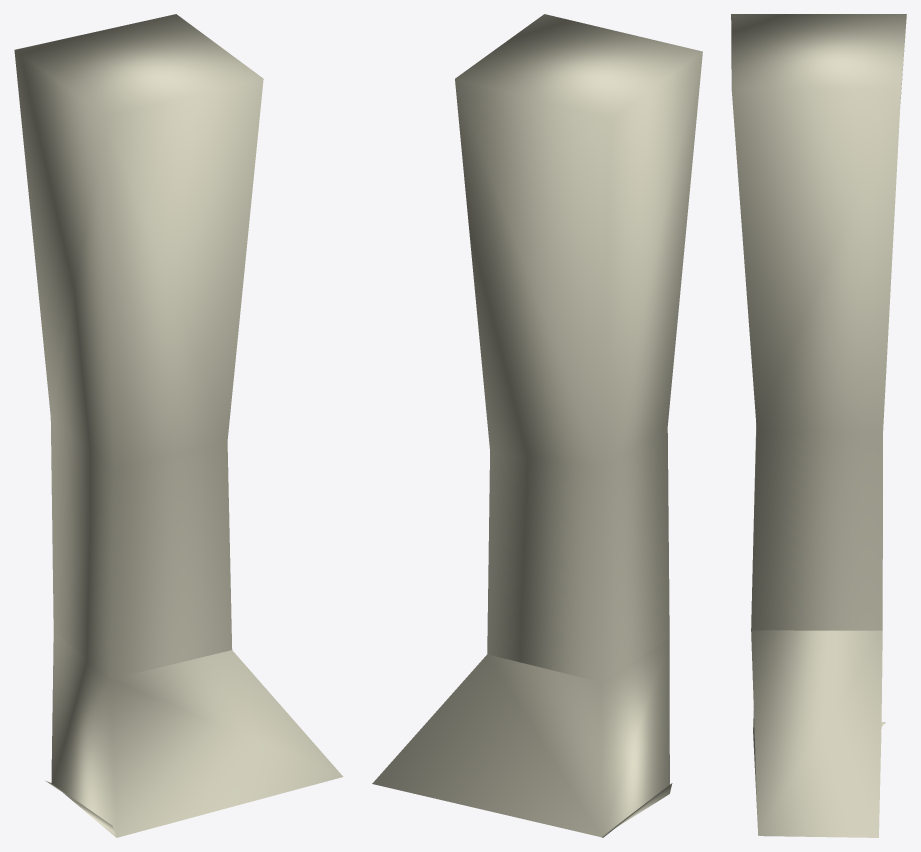
File: rightleg.glb
3 renders of one model, left to right at view 1: azimuth 30°, elevation 25°; view 2: azimuth 150°, elevation 25°; view 3: azimuth 270°, elevation 25°, orthographic. The views are drawn at different scales.
Parts seen in each view (by area): view 1: Cube.002; view 2: Cube.002; view 3: Cube.002.
Part boxes in pixels (box(x1,y1,x2,y2)): Cube.002: box(14, 14, 343, 837); Cube.002: box(372, 14, 702, 837); Cube.002: box(731, 14, 906, 837).
Size of the model in its own units: 4.45 by 12.37 by 2.79.
